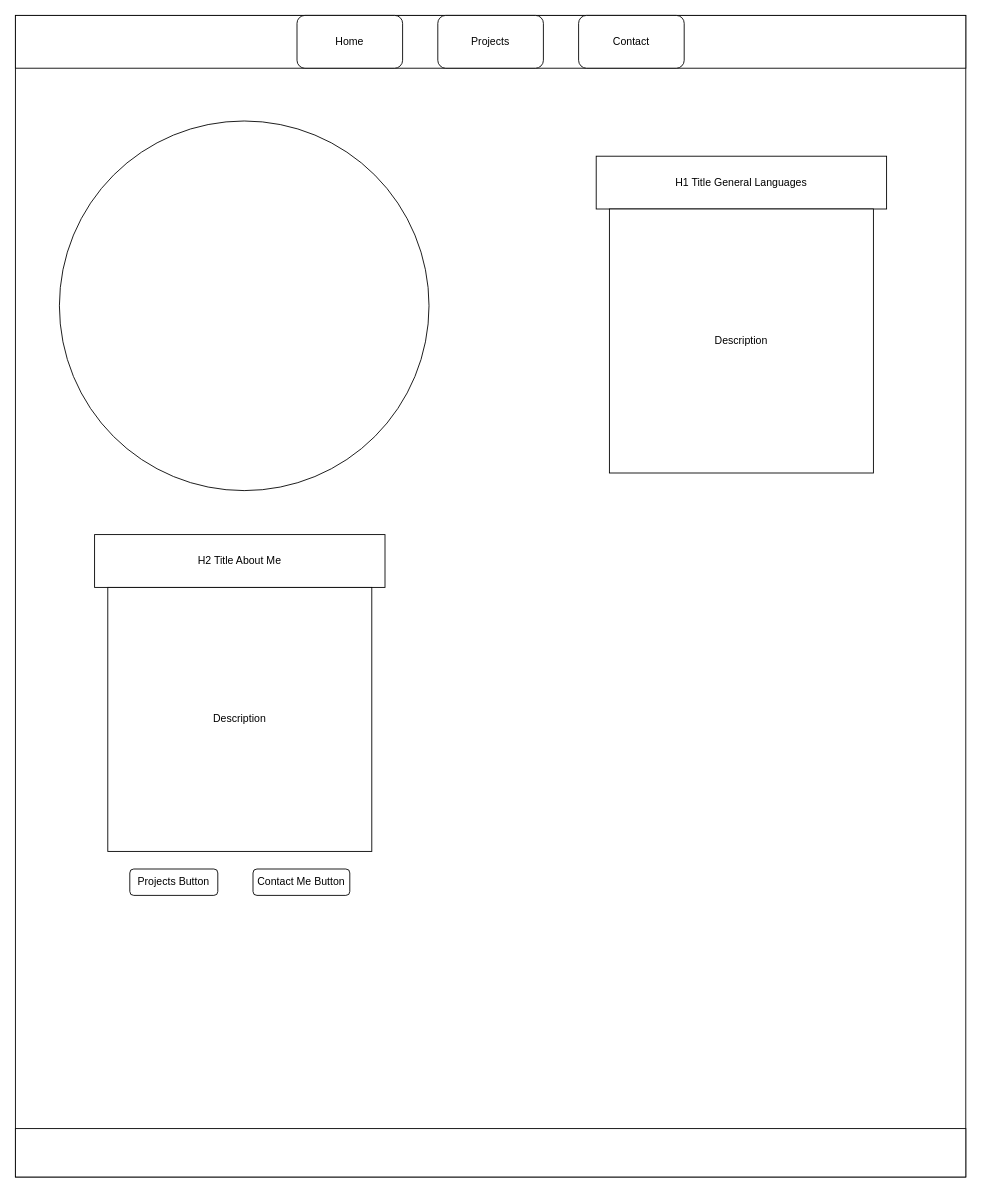
Image size: 981x1192. Some labels were removed from this diagram. The centre of each missing label's shape, as x and y in pixels:
"Footer" belongs at point 490,1152.
"Profile" belongs at point 244,305.
